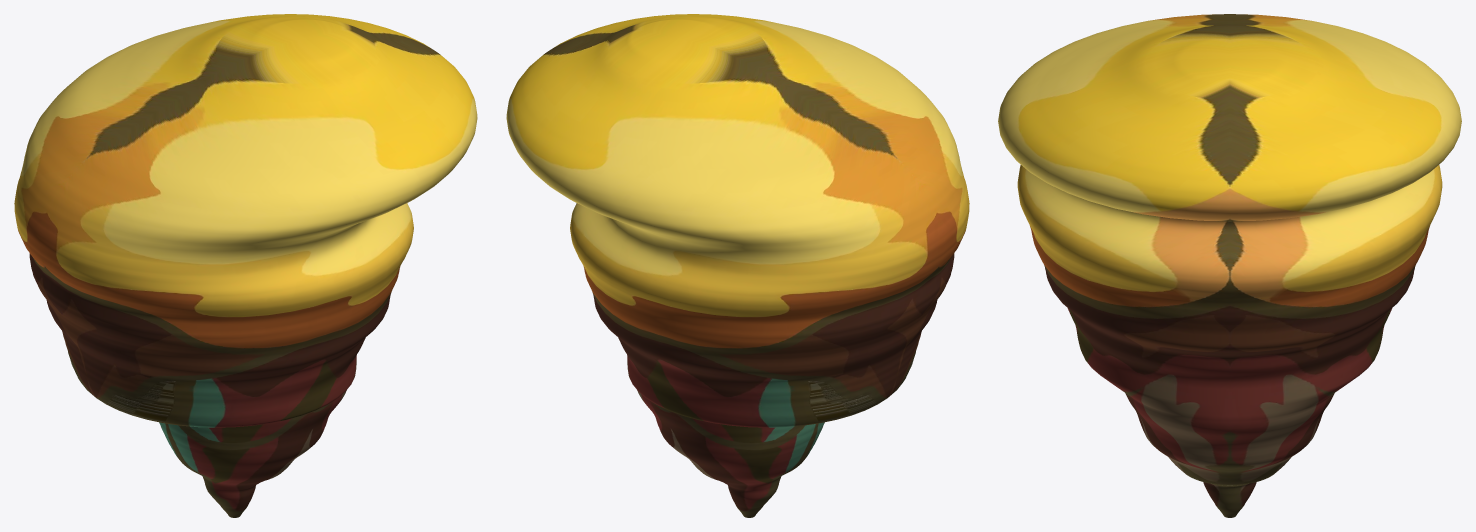
Rendered from bridge_boulder.glb.
3 views of the same model, side by side, from view 1: azimuth 30°, elevation 25°; view 2: azimuth 150°, elevation 25°; view 3: azimuth 270°, elevation 25° (orthographic). The views are drawn at different scales.
Visible parts, largest first — view 1: bridge_boulder; view 2: bridge_boulder; view 3: bridge_boulder.
Boxes of the visible parts, left/top/right/bottom form: bridge_boulder: left=14, top=14, right=477, bottom=517; bridge_boulder: left=506, top=14, right=969, bottom=517; bridge_boulder: left=998, top=14, right=1461, bottom=517.
Size of the model in its own units: 0.9986 by 1.07 by 0.9108.
1 material, 1 textured.
